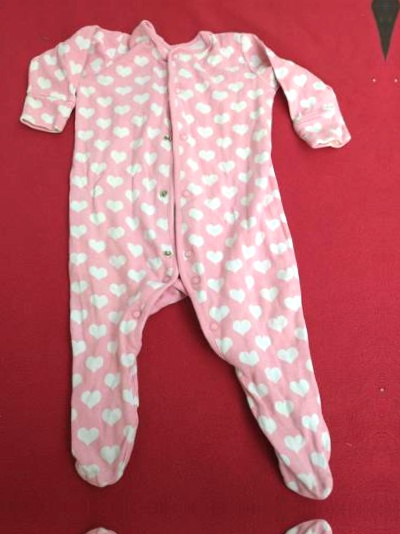Body: (0, 7, 364, 490), (0, 527, 359, 534), (398, 531, 400, 534), (0, 0, 369, 0)
